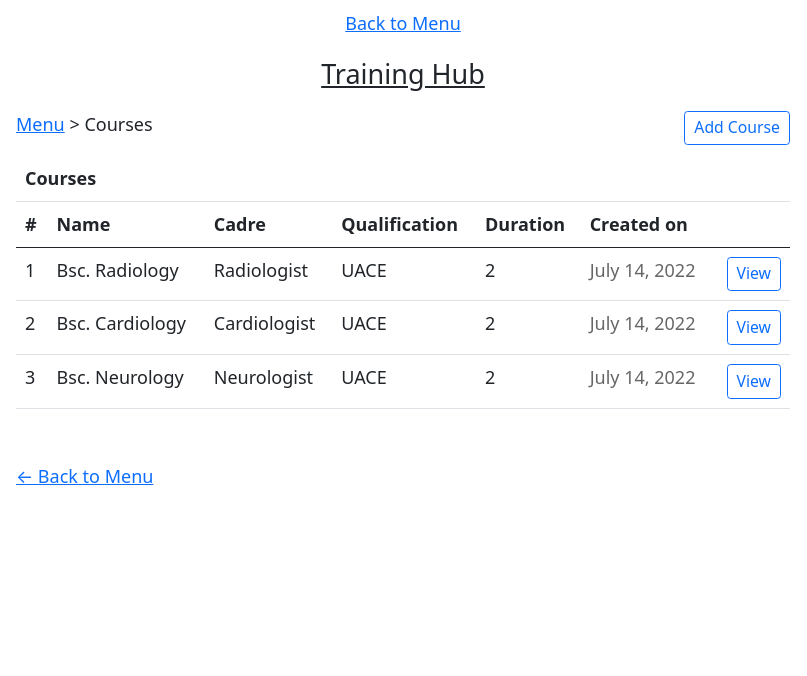
Scenario: courses view › can move to add course page
Click the button "Add Course": (737, 129) left=684, top=111, right=790, bottom=146
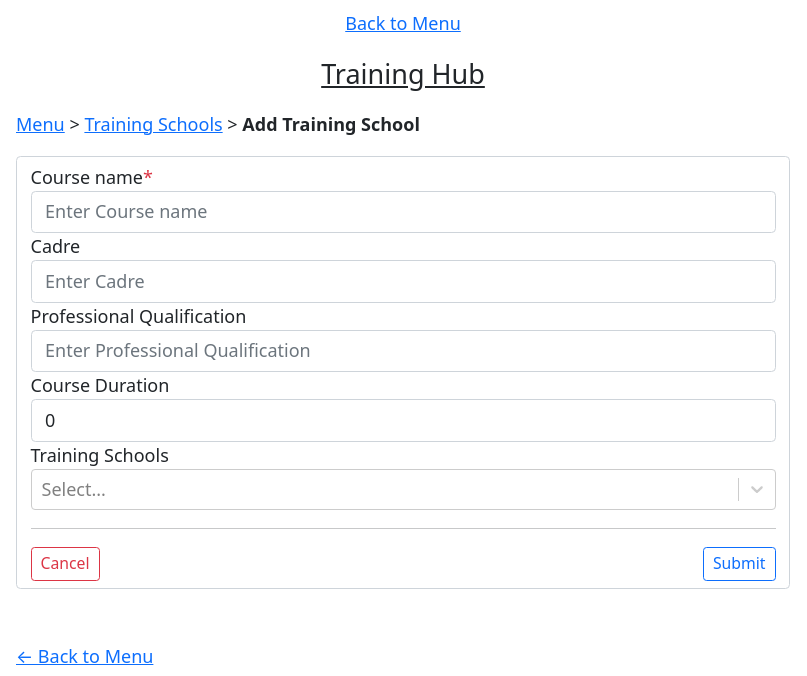
Check: the text "*" is shown, box left=31, top=165, right=153, bottom=189
Check: the button "Submit" is shown, box left=703, top=546, right=776, bottom=581
